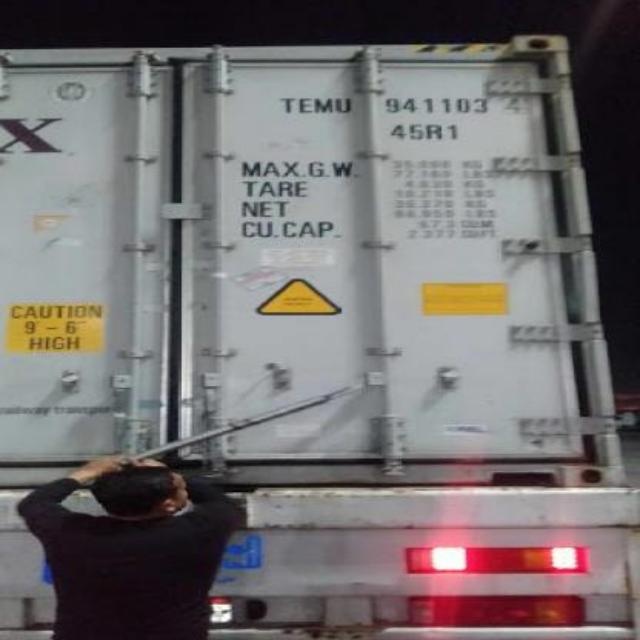0: (454, 96, 472, 116)
1: (441, 98, 462, 118), (424, 98, 440, 114)
3: (478, 97, 490, 113)
4: (402, 96, 420, 114), (504, 97, 524, 113)
9: (384, 96, 402, 114)
E: (296, 95, 312, 115)
M: (312, 96, 334, 114)
T: (278, 97, 298, 113)
U: (334, 96, 356, 114)
